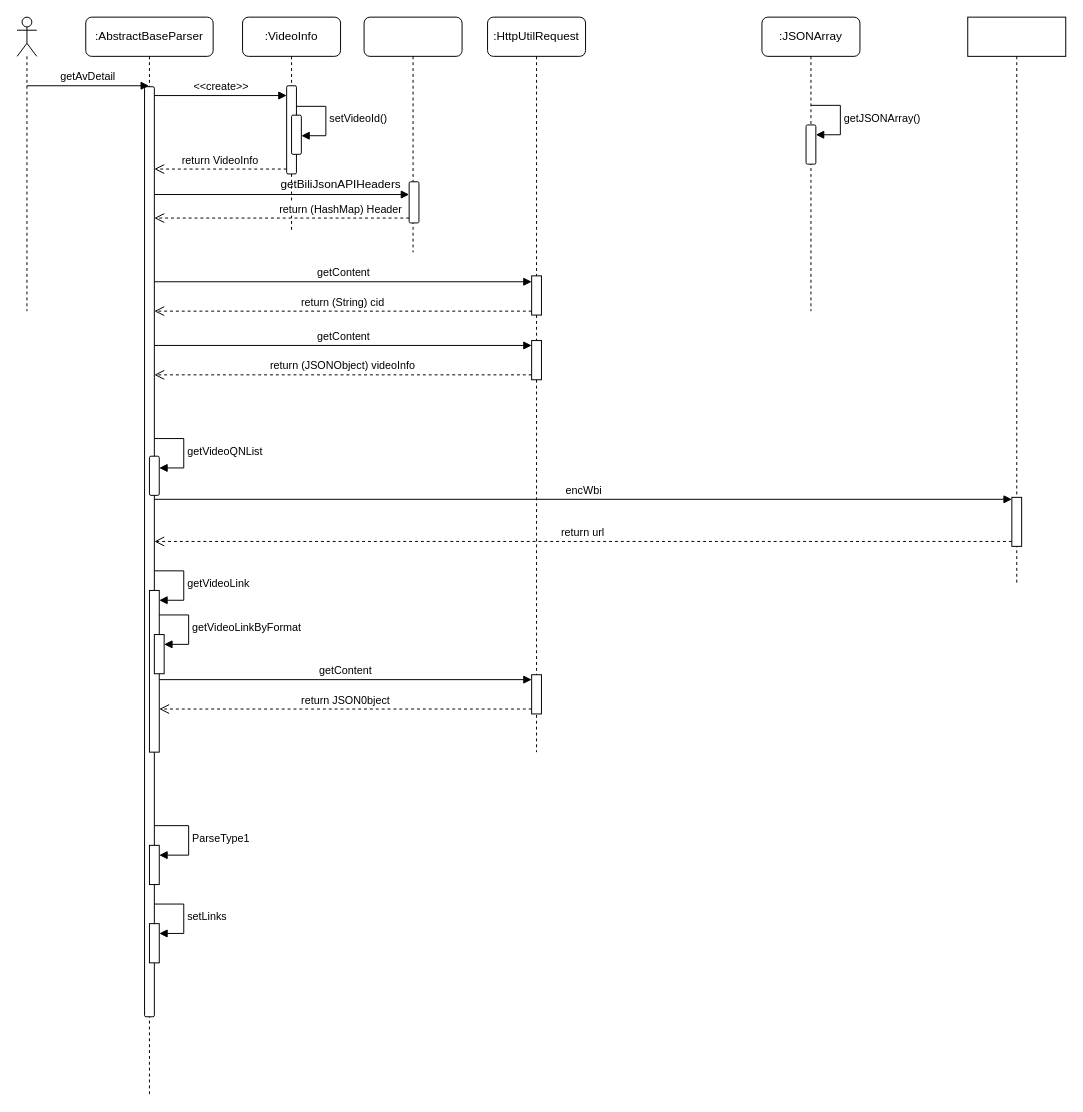
Some shapes in this 1083 by 1112 pixel diagram are drawn without their labels. The box of each missing label's shape, as (x1, y1, x2, y2) in pixels:
:API: (967, 16, 1066, 586)
:HttpHeaders: (363, 16, 462, 252)
